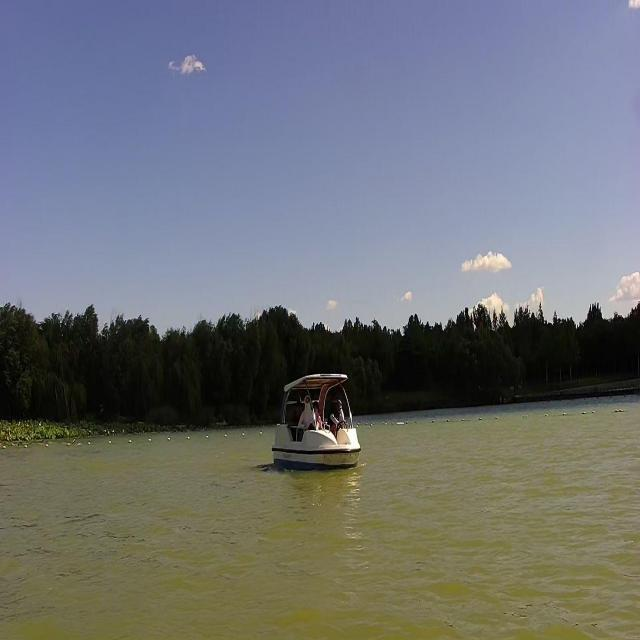CIV_Ship: (267, 369, 362, 471)
